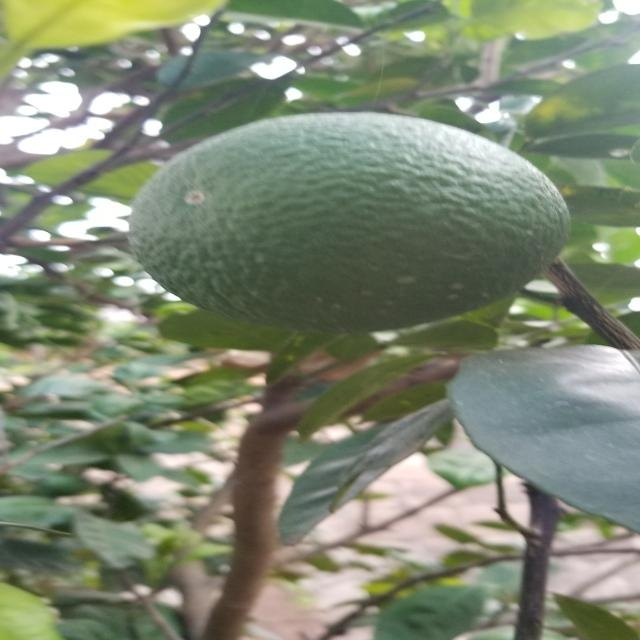agrume: (118, 113, 585, 339)
